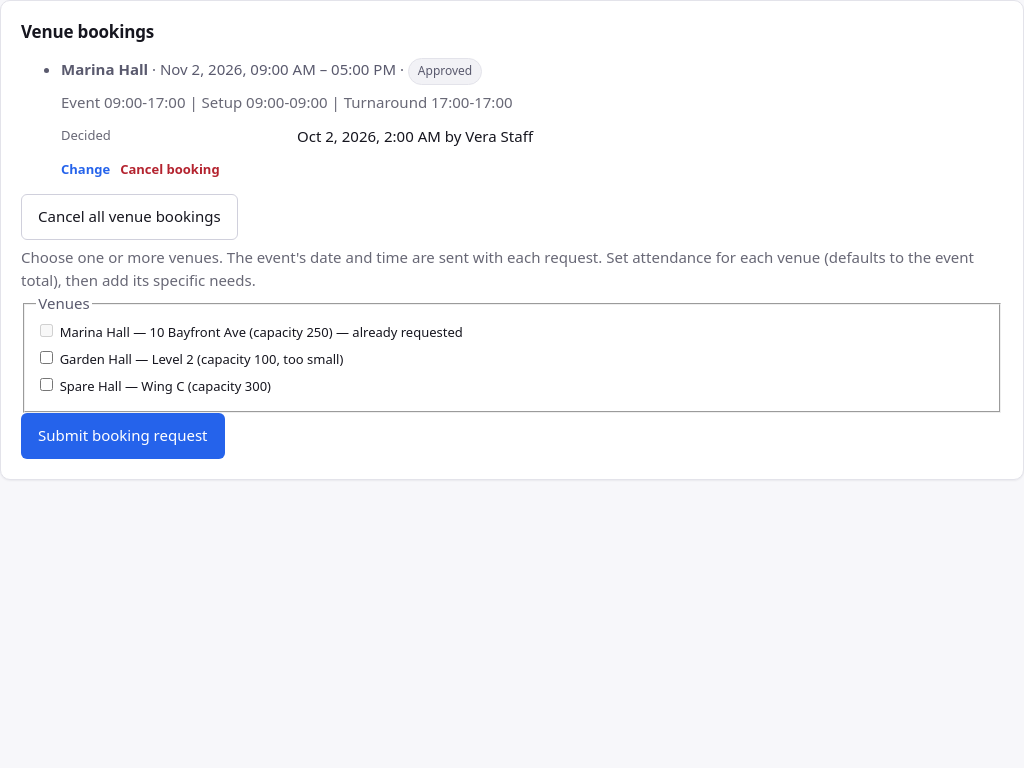
Test: when availability cannot be checked › tags nothing, still offers every venue, and says it could not check
This screenshot has width=1024, height=768.
Expected: the text "Marina Hall" is shown, [61,59,148,79]
Click the button with aria-label "Change Marina Hall booking" at (86,169), box [61,159,110,179]
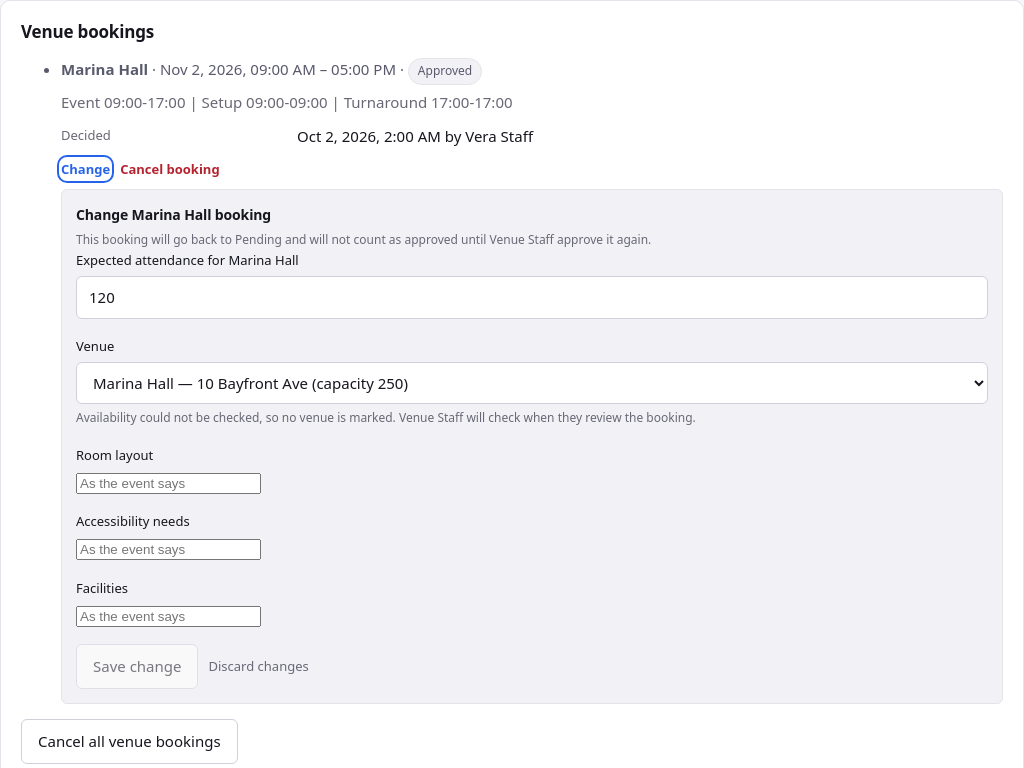
Expected: the text "Availability could not be checked" is shown, [76,409,696,426]
